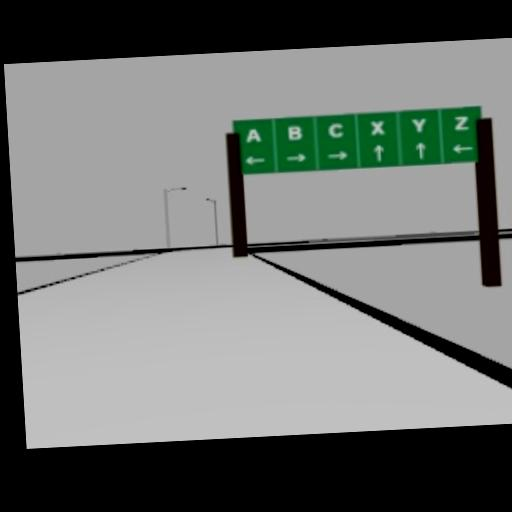A: (244, 125, 264, 144)
B: (287, 122, 305, 140)
C: (328, 121, 346, 139)
Left: (244, 152, 268, 167), (453, 141, 475, 154)
Right: (326, 148, 353, 162), (284, 151, 308, 163)
Straight: (372, 142, 386, 162), (415, 141, 428, 160)
X: (368, 118, 387, 136)
Y: (411, 117, 428, 133)
Z: (452, 115, 471, 130)
